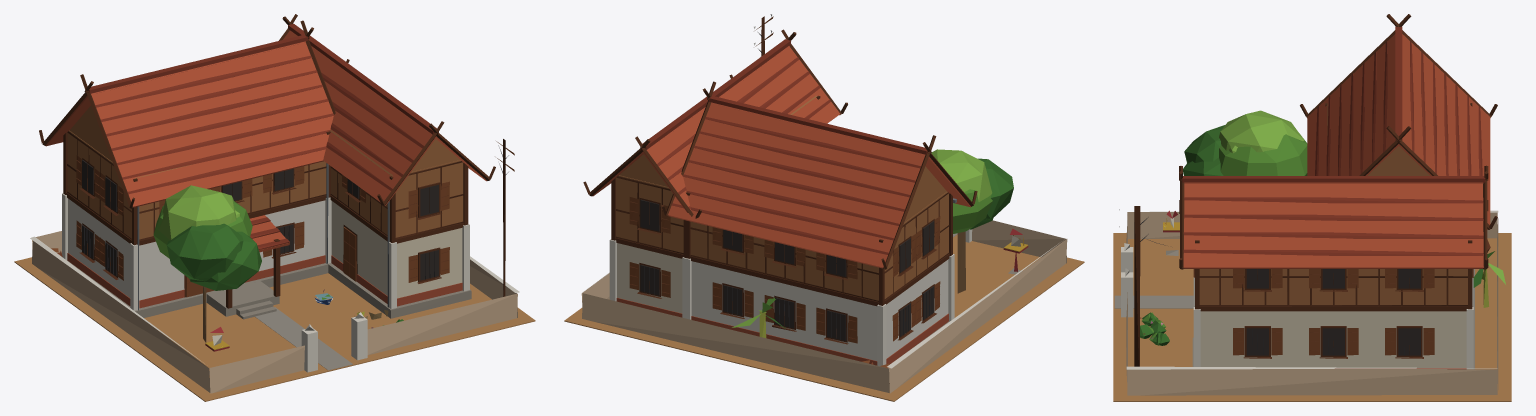
Rendered from home_4.glb.
3 renders of one model, left to right at view 1: azimuth 30°, elevation 25°; view 2: azimuth 150°, elevation 25°; view 3: azimuth 270°, elevation 25°, orthographic. The views are drawn at different scales.
Visible parts, largest first — view 1: body, windows; view 2: body, windows; view 3: body, windows.
Part boxes in pixels (box(x1,y1,x2,y2)): body: box(14, 14, 535, 401); windows: box(82, 160, 438, 280); body: box(564, 14, 1084, 401); windows: box(640, 199, 934, 341); body: box(1113, 14, 1511, 401); windows: box(1246, 269, 1420, 355).
Bounding box in the file's own units: 15.9 × 10.22 × 16.3.
